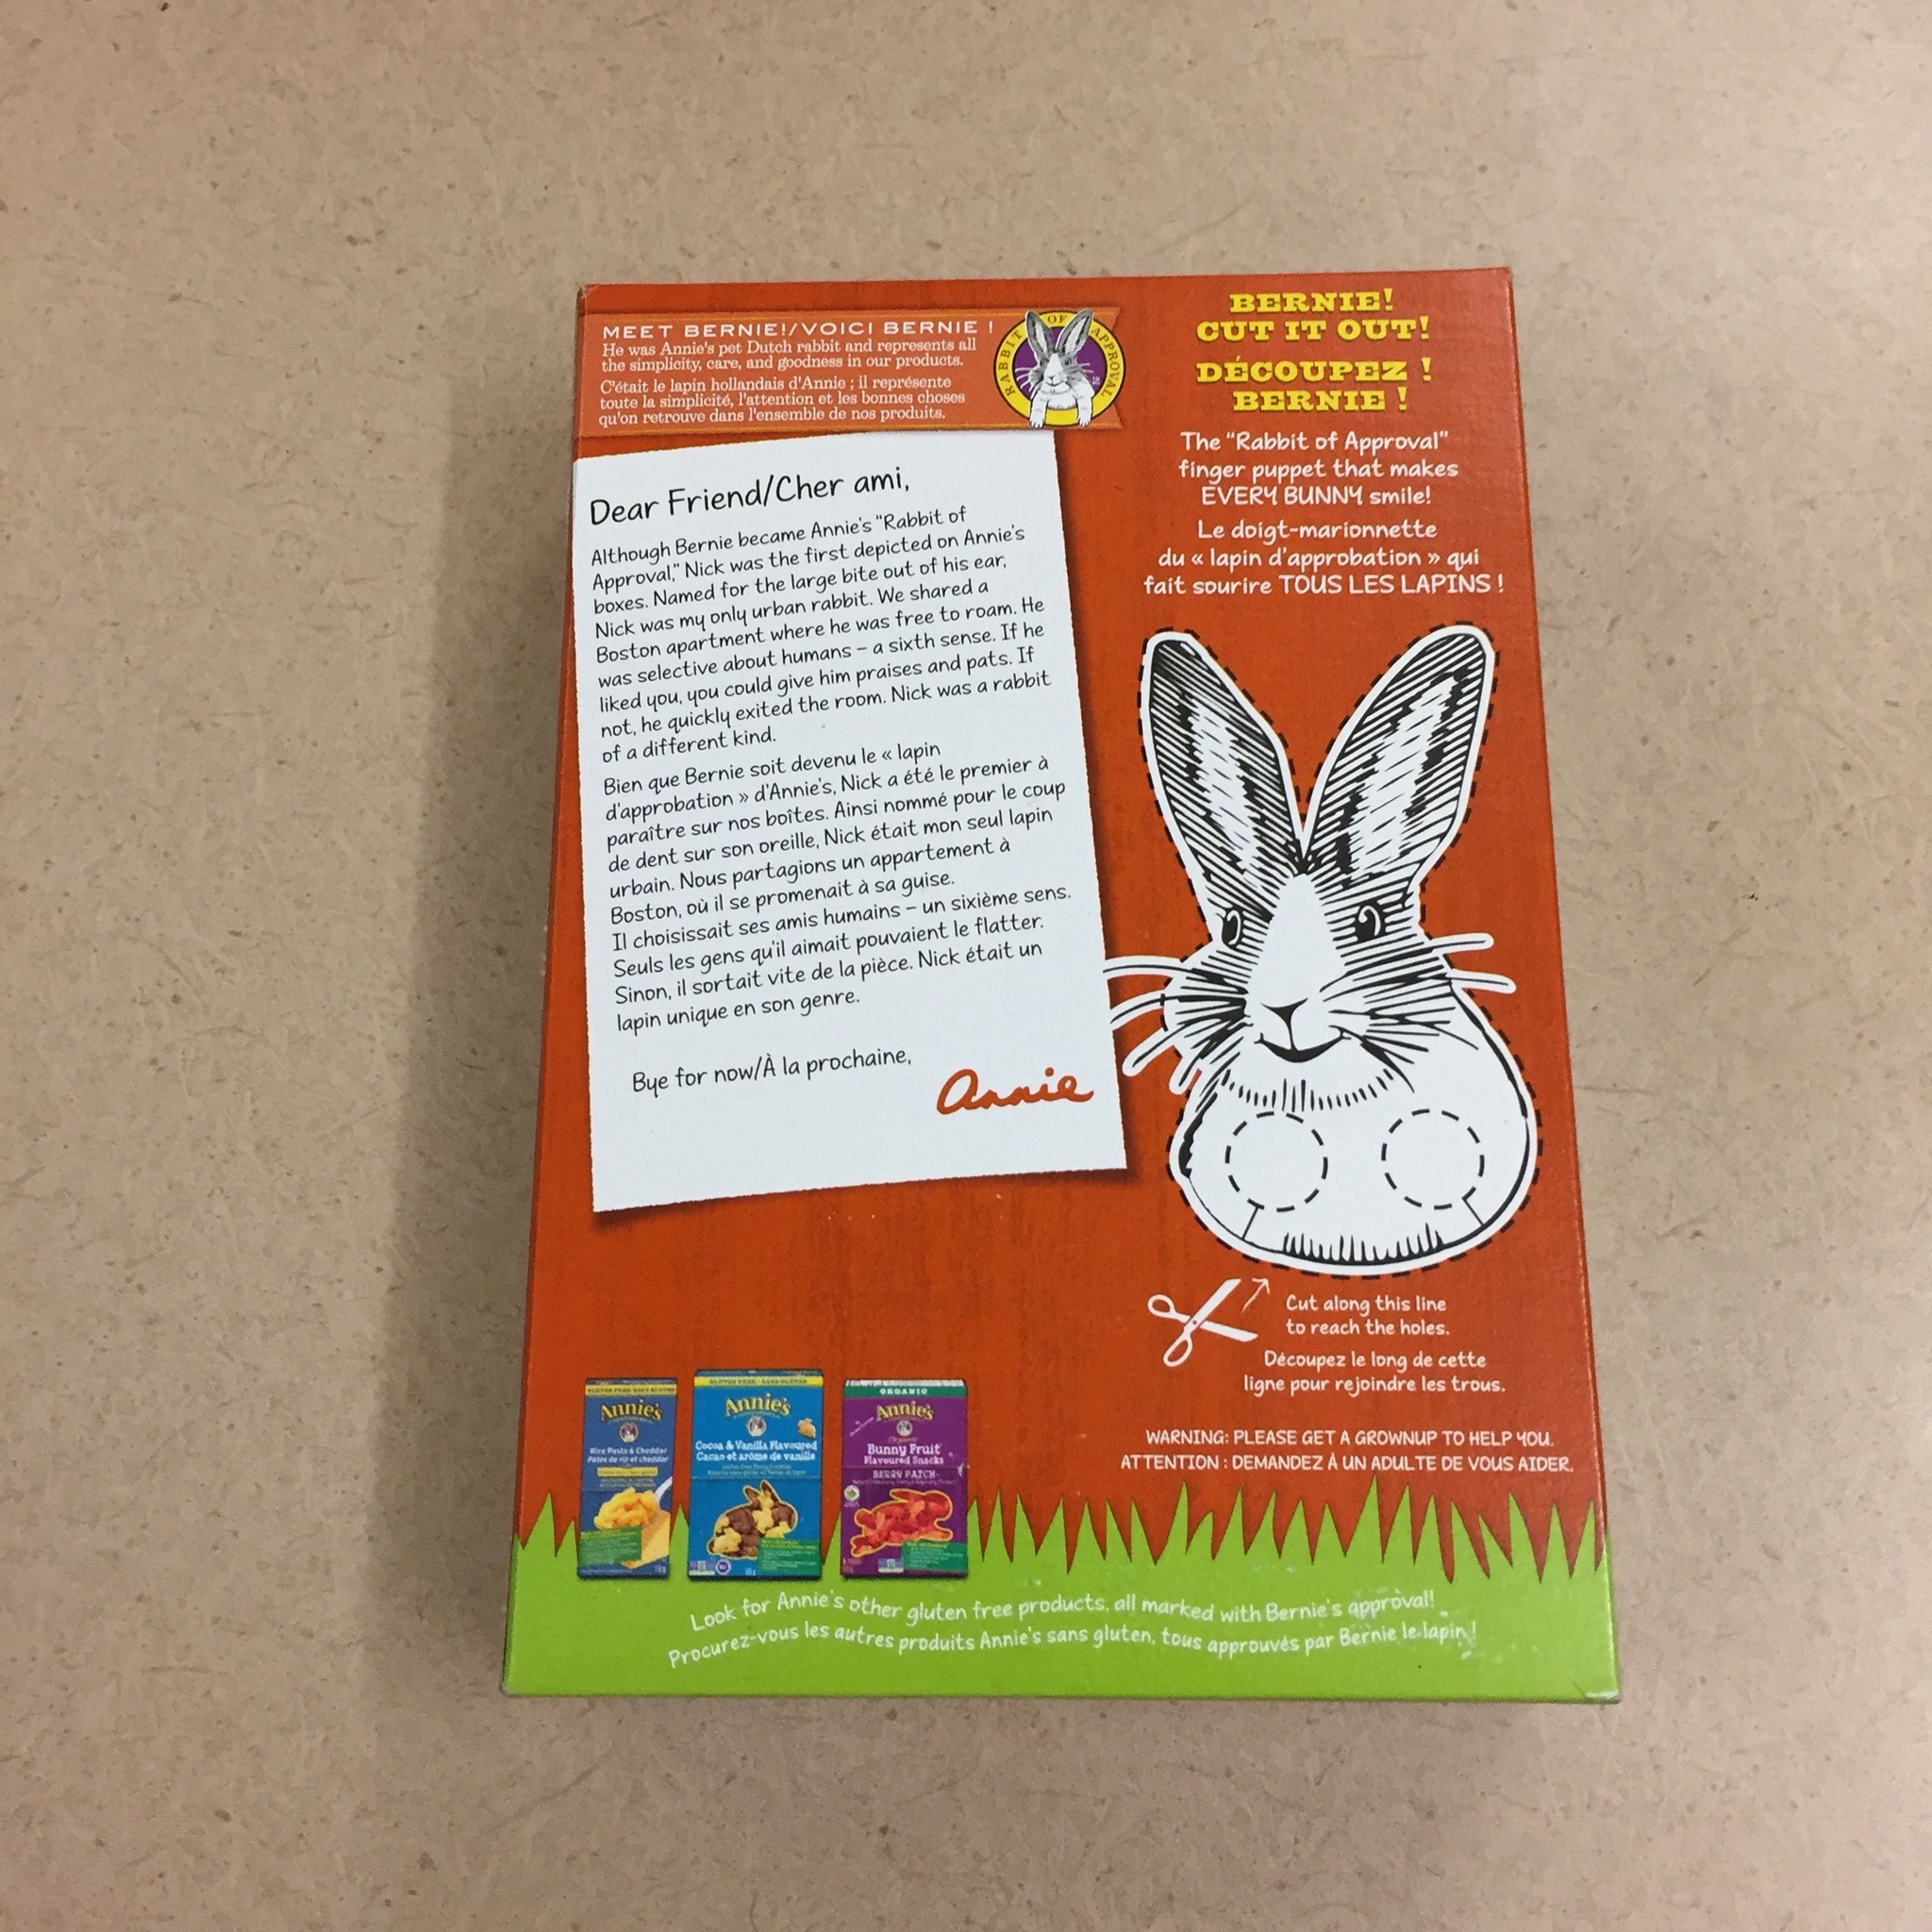annies_snickerdoodle_cinnamon_sugar: (495, 264, 1624, 1709)
